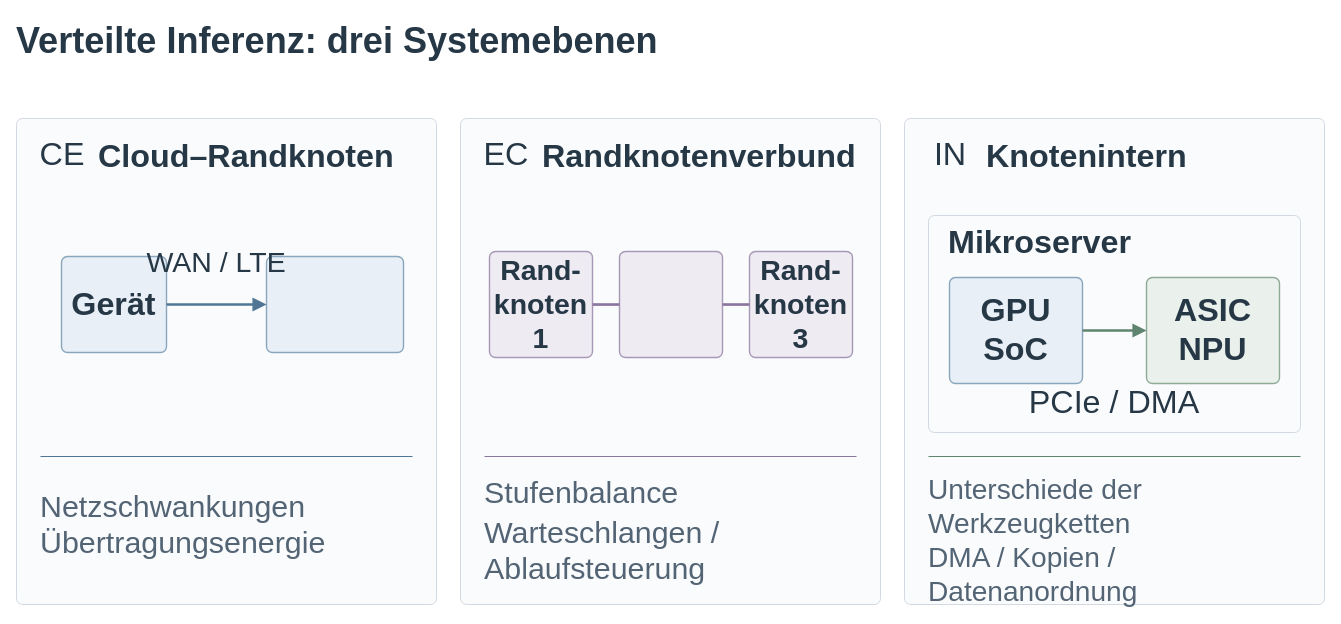
This 1341x624 diagram has some shape labels left out. The shapes that lost their labels are listed below. From the top down, each one's centre as x and y in pixels, then its label:
[334,304]: Cloud
[670,304]: Rand- knoten 2
